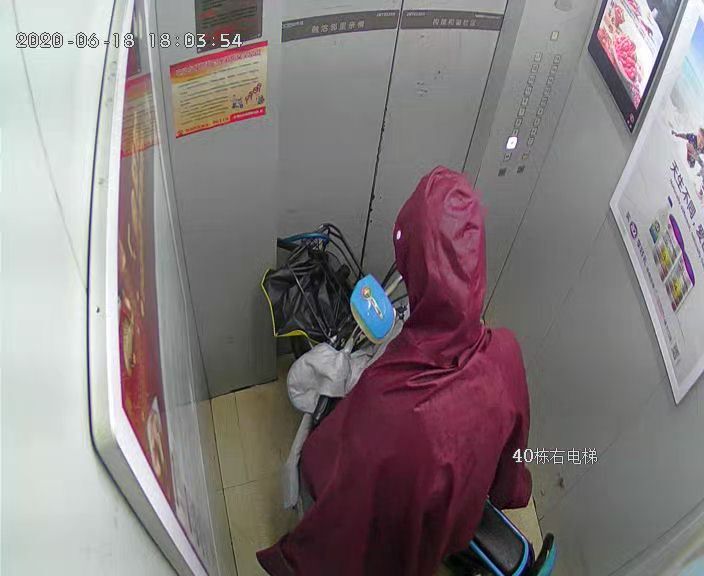Electric-bicycle: (274, 227, 552, 574)
